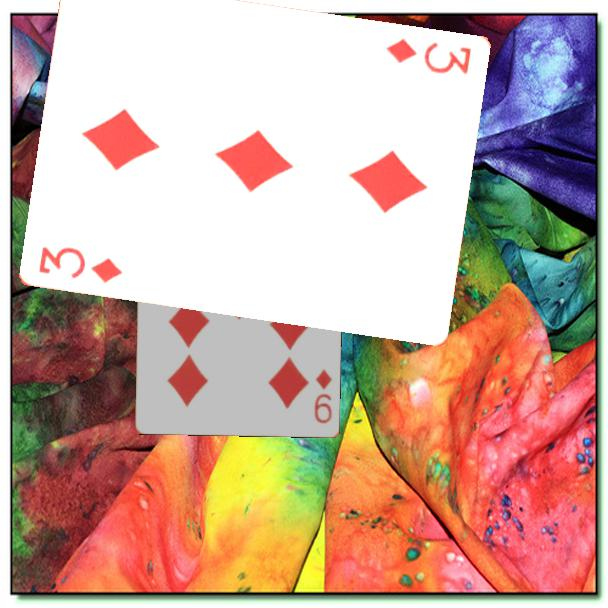d03: (34, 243, 125, 287), (382, 35, 473, 77)
d09: (310, 365, 335, 426)
